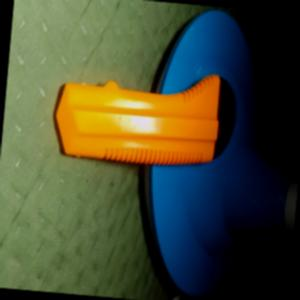estilete: (49, 59, 238, 171)
